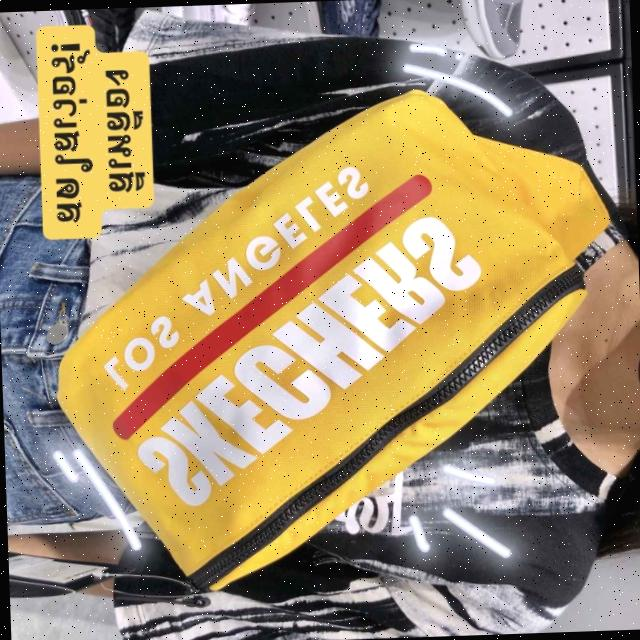handbag: (44, 80, 638, 592)
